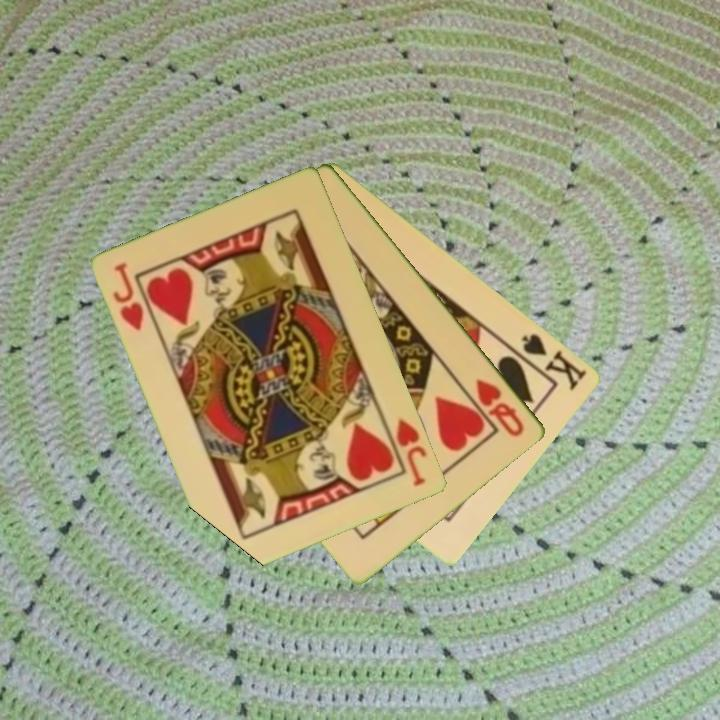Jh: (109, 259, 147, 334), (393, 414, 430, 490)
Ks: (518, 330, 591, 394)
Qh: (472, 375, 528, 440)
